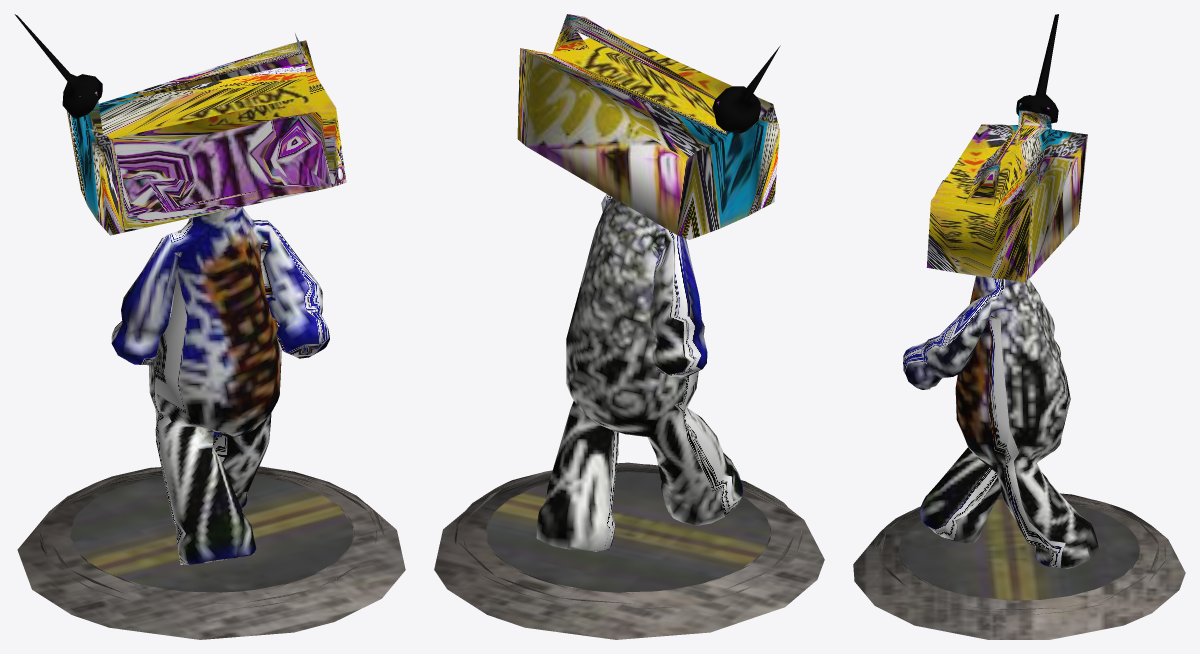
3 renders of one model, left to right at view 1: azimuth 30°, elevation 25°; view 2: azimuth 150°, elevation 25°; view 3: azimuth 270°, elevation 25°, orthographic. The views are drawn at different scales.
Size of the model in its own units: 1.46 by 2.32 by 1.44.
Materials: 5 (4 with a texture image).
